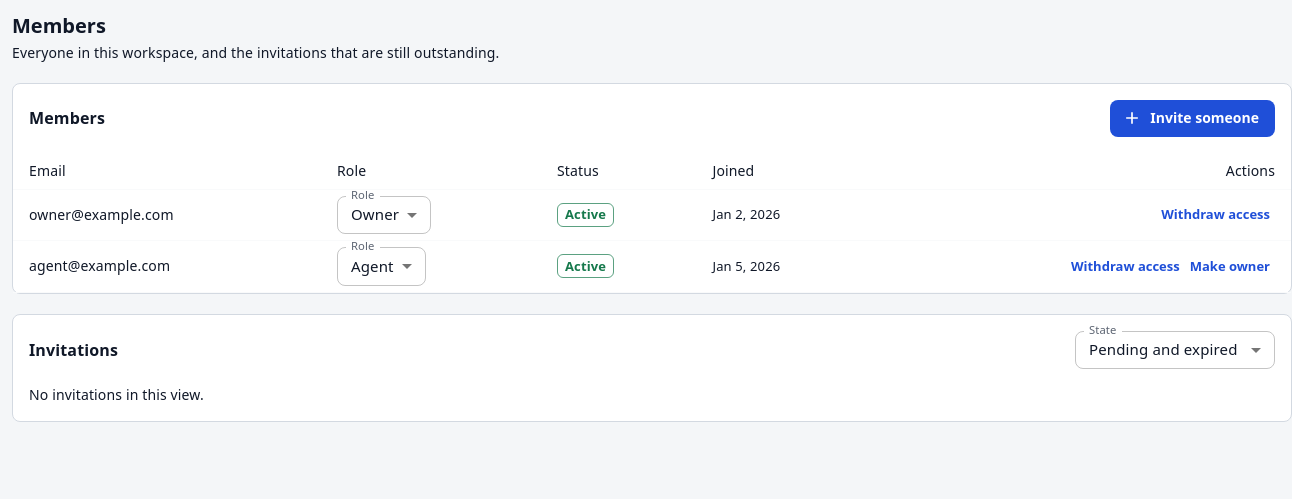
Test: MembersPage › explains the last-owner rule when a demotion is refused, and changes nothing
Click the dropdown named "Role".
click(375, 214)  # box [351,204,399,224]
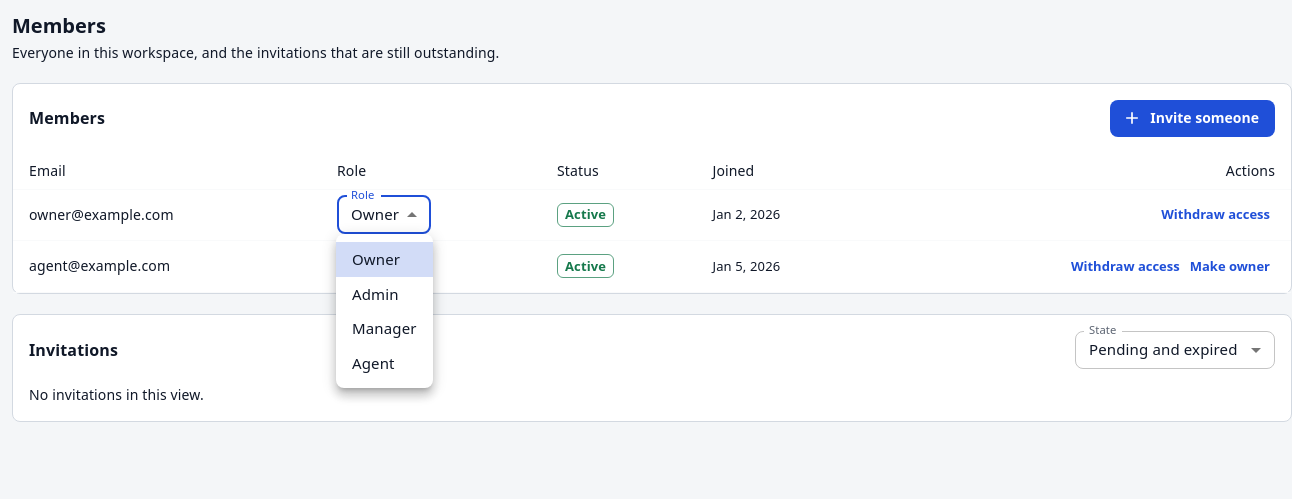
Click the option "Agent".
click(373, 362)  # box [352,352,395,372]
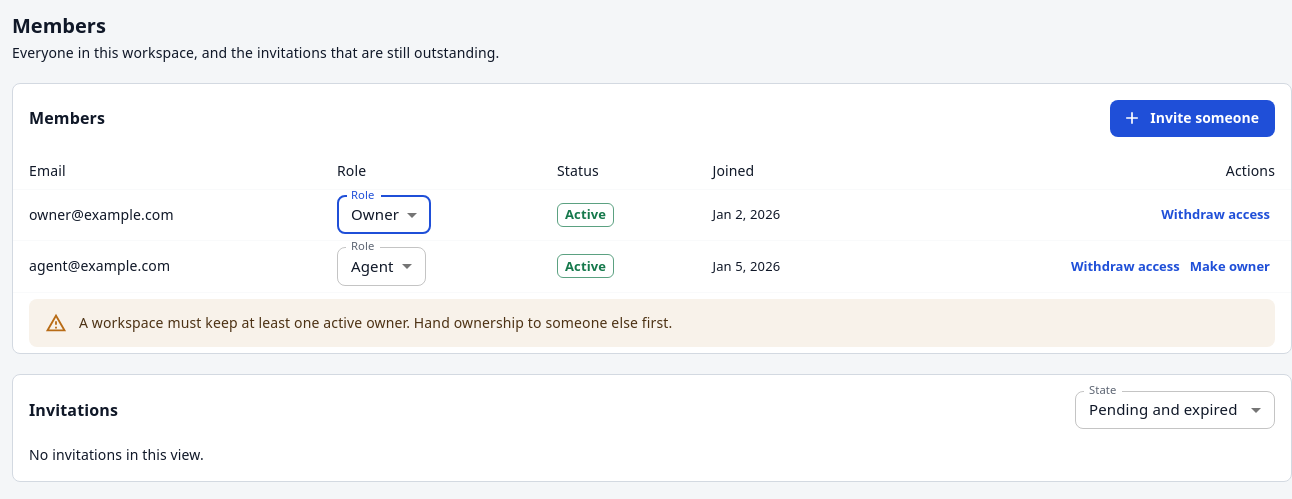
Expected: the dropdown "Owner" is shown, [351,204,399,224]
Expected: the text "must keep at least one active owner" is shown, [79,313,672,332]
